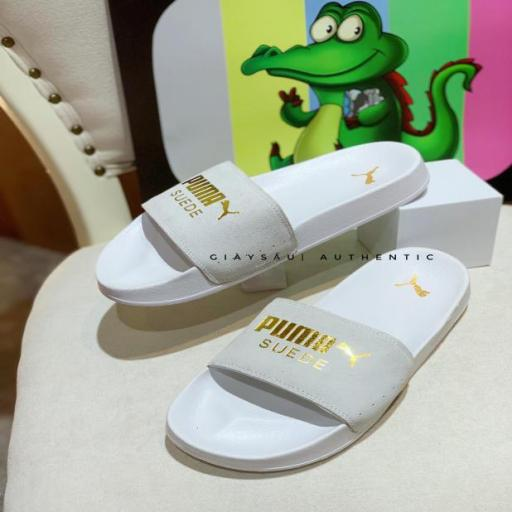Puma: (255, 312, 338, 358), (177, 165, 229, 208), (392, 270, 436, 304), (336, 340, 372, 374), (213, 197, 243, 226), (351, 164, 385, 189)
